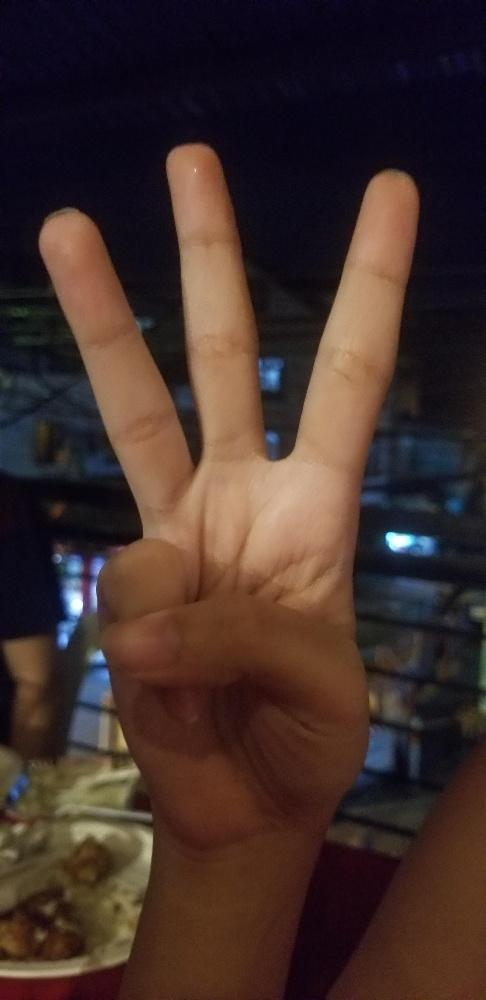w: (37, 141, 420, 815)
